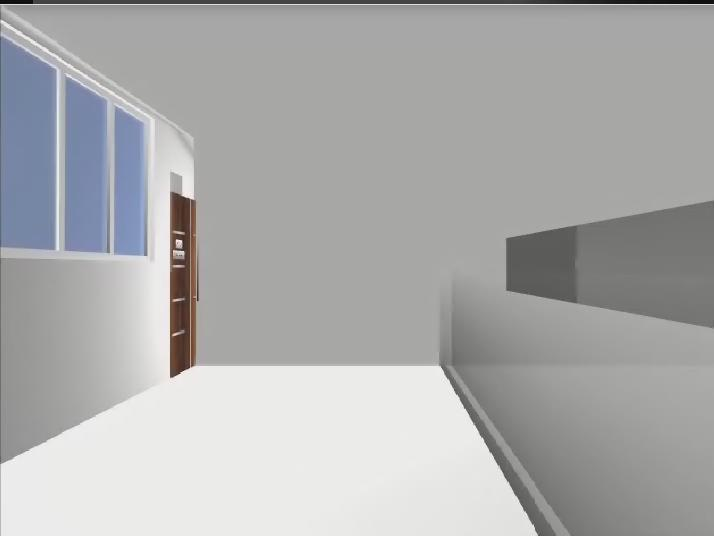door: (170, 192, 199, 379)
